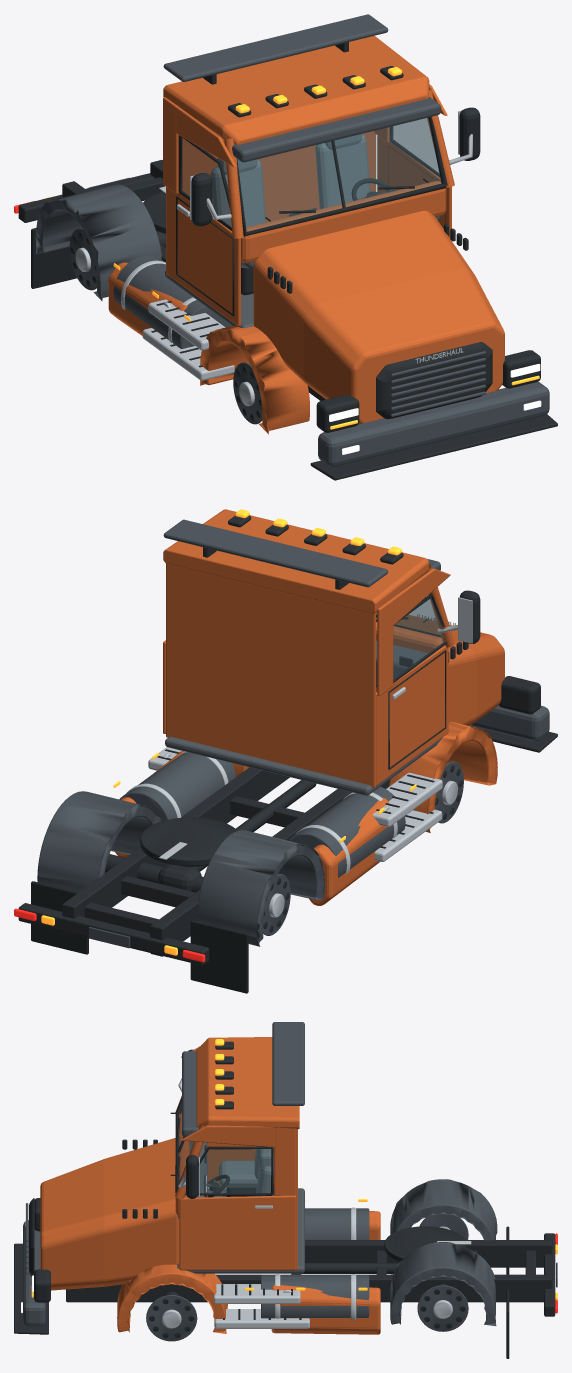
Rendered from Thunderhaul.fbx.
3 renders of one model, top to bottom at view 1: azimuth 30°, elevation 25°; view 2: azimuth 150°, elevation 25°; view 3: azimuth 270°, elevation 25°, orthographic. The views are drawn at different scales.
Visible parts, largest first — view 1: Chassis__TT_Paint_Primary, CabExterior__TT_Paint_Primary, Chassis__TT_MetalTrim, CabExterior__TT_Glass, Chassis__TT_Chassis, CabInterior__TT_Fabric, CabExterior__TT_MetalTrim, CabExterior__TT_Rubber, CabExterior__TT_Chrome, CabExterior__TT_Chassis, Chassis__TT_Rubber, Wheel_FR__TT_MetalTrim (+5 smaller); view 2: CabExterior__TT_Paint_Primary, Chassis__TT_MetalTrim, Chassis__TT_Chassis, Chassis__TT_Paint_Primary, Chassis__TT_Rubber, CabExterior__TT_Chrome, CabInterior__TT_Interior, CabExterior__TT_Glass, CabExterior__TT_Rubber, CabExterior__TT_Chassis, Chassis__TT_Chrome, Wheel_FR__TT_MetalTrim (+3 smaller); view 3: Chassis__TT_Paint_Primary, CabExterior__TT_Paint_Primary, Chassis__TT_MetalTrim, Chassis__TT_Chassis, CabExterior__TT_Glass, CabExterior__TT_Chrome, CabInterior__TT_Fabric, CabInterior__TT_Interior, Wheel_RL__TT_MetalTrim, Wheel_FL__TT_MetalTrim, CabExterior__TT_Rubber, CabExterior__TT_MetalTrim (+4 smaller).
Part boxes in pixels (x1=…): Chassis__TT_Paint_Primary: x1=108, y1=210, x2=504, y2=434; CabExterior__TT_Paint_Primary: x1=163, y1=35, x2=454, y2=326; Chassis__TT_MetalTrim: x1=35, y1=14, x2=549, y2=466; CabExterior__TT_Glass: x1=181, y1=118, x2=441, y2=231; Chassis__TT_Chassis: x1=18, y1=42, x2=557, y2=480; CabInterior__TT_Fabric: x1=210, y1=134, x2=370, y2=226; CabExterior__TT_MetalTrim: x1=232, y1=97, x2=440, y2=162; CabExterior__TT_Rubber: x1=151, y1=117, x2=447, y2=367; CabExterior__TT_Chrome: x1=142, y1=134, x2=472, y2=380; CabExterior__TT_Chassis: x1=191, y1=66, x2=480, y2=226; Chassis__TT_Rubber: x1=31, y1=178, x2=428, y2=288; Wheel_FR__TT_MetalTrim: x1=233, y1=362, x2=262, y2=424; CabExterior__TT_Paint_Primary: x1=163, y1=509, x2=454, y2=787; Chassis__TT_MetalTrim: x1=37, y1=519, x2=549, y2=948; Chassis__TT_Chassis: x1=18, y1=547, x2=557, y2=965; Chassis__TT_Paint_Primary: x1=115, y1=611, x2=504, y2=905; Chassis__TT_Rubber: x1=31, y1=618, x2=428, y2=993; CabExterior__TT_Chrome: x1=148, y1=625, x2=457, y2=861; CabInterior__TT_Interior: x1=165, y1=640, x2=442, y2=795; CabExterior__TT_Glass: x1=376, y1=598, x2=445, y2=679; CabExterior__TT_Rubber: x1=157, y1=593, x2=447, y2=848; CabExterior__TT_Chassis: x1=228, y1=515, x2=480, y2=643; Chassis__TT_Chrome: x1=127, y1=614, x2=455, y2=874; Wheel_FR__TT_MetalTrim: x1=435, y1=761, x2=463, y2=823; Chassis__TT_Paint_Primary: x1=40, y1=1138, x2=380, y2=1334; CabExterior__TT_Paint_Primary: x1=175, y1=1037, x2=299, y2=1270; Chassis__TT_MetalTrim: x1=23, y1=1022, x2=557, y2=1326; Chassis__TT_Chassis: x1=14, y1=1139, x2=555, y2=1334; CabExterior__TT_Glass: x1=178, y1=1106, x2=270, y2=1192; CabExterior__TT_Chrome: x1=178, y1=1078, x2=309, y2=1328; CabInterior__TT_Fabric: x1=219, y1=1146, x2=273, y2=1196; CabInterior__TT_Interior: x1=177, y1=1141, x2=304, y2=1273; Wheel_RL__TT_MetalTrim: x1=417, y1=1285, x2=468, y2=1331; Wheel_FL__TT_MetalTrim: x1=146, y1=1295, x2=197, y2=1341; CabExterior__TT_Rubber: x1=175, y1=1098, x2=301, y2=1319; CabExterior__TT_MetalTrim: x1=182, y1=1051, x2=198, y2=1136.
Bounding box in the file's own units: 312 × 330 × 638.
